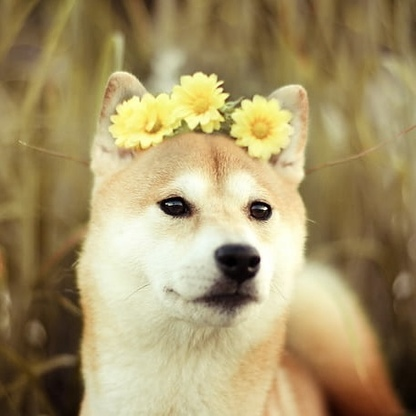shiba: (68, 66, 403, 416)
